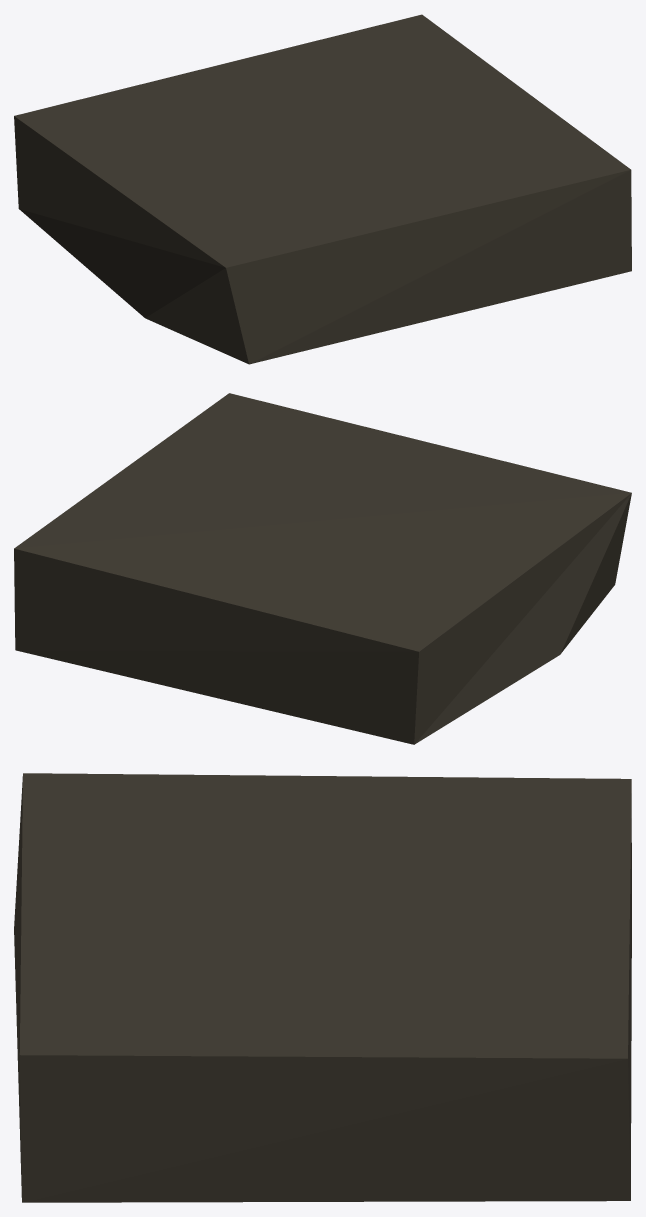
The model's file is Brick_Single_9.fbx.
3 renders of one model, top to bottom at view 1: azimuth 30°, elevation 25°; view 2: azimuth 150°, elevation 25°; view 3: azimuth 270°, elevation 25°, orthographic. The views are drawn at different scales.
Visible parts, largest first — view 1: Group51946; view 2: Group51946; view 3: Group51946.
Part boxes in pixels (x1,y1,x2,y2): Group51946: (14, 14, 631, 364); Group51946: (14, 393, 631, 744); Group51946: (14, 773, 631, 1202).
Size of the model in its own units: 1.75 by 0.4289 by 1.59.
